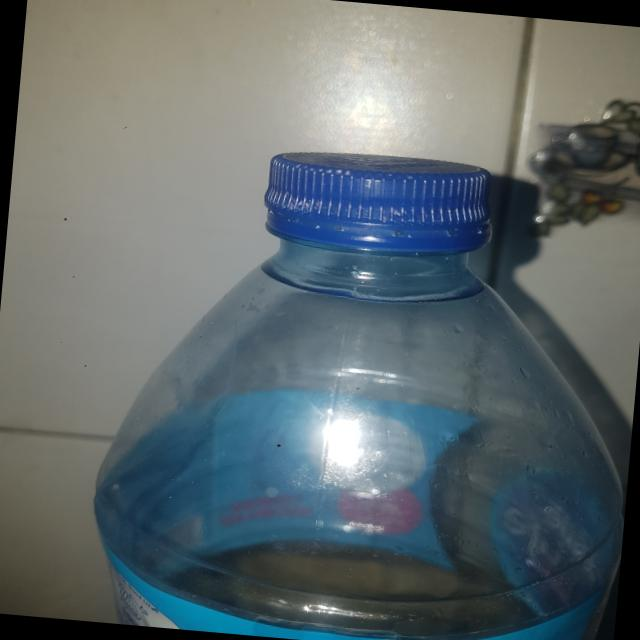general: (81, 130, 640, 640)
